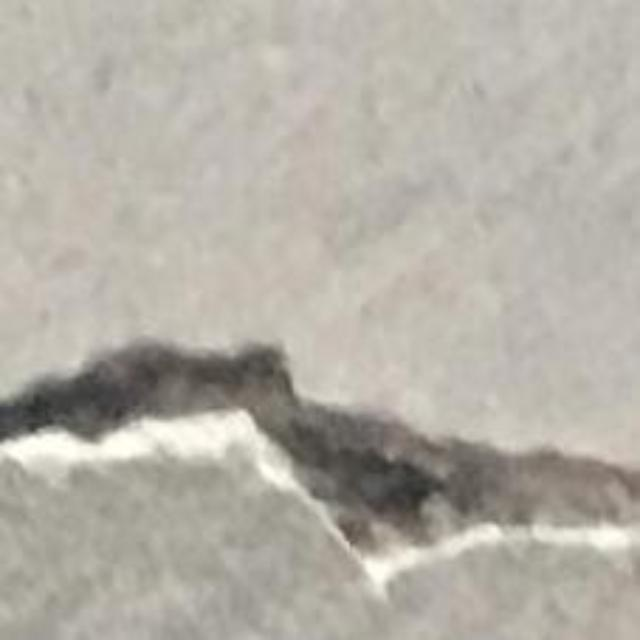crack: (0, 342, 639, 561)
